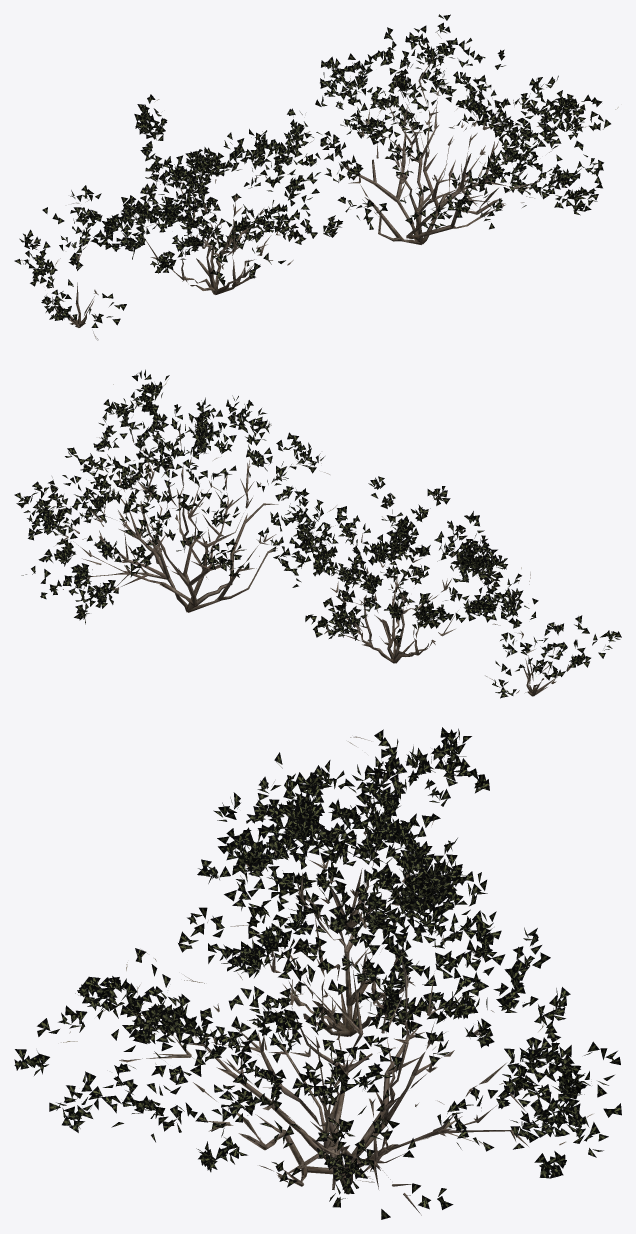
Rendered from searsia_burchellii.glb.
3 views of the same model, one above another, from view 1: azimuth 30°, elevation 25°; view 2: azimuth 150°, elevation 25°; view 3: azimuth 270°, elevation 25° (orthographic). The views are drawn at different scales.
Visible parts, largest first — view 1: searsia_burchellii_large_LOD0; view 2: searsia_burchellii_large_LOD0; view 3: searsia_burchellii_large_LOD0.
Part boxes in pixels (x1,y1,x2,y2): searsia_burchellii_large_LOD0: (14,14,618,340); searsia_burchellii_large_LOD0: (14,369,621,698); searsia_burchellii_large_LOD0: (14,727,621,1219).
Size of the model in its own units: 8.06 by 3.01 by 4.88.
Materials: 2 (2 with a texture image).
